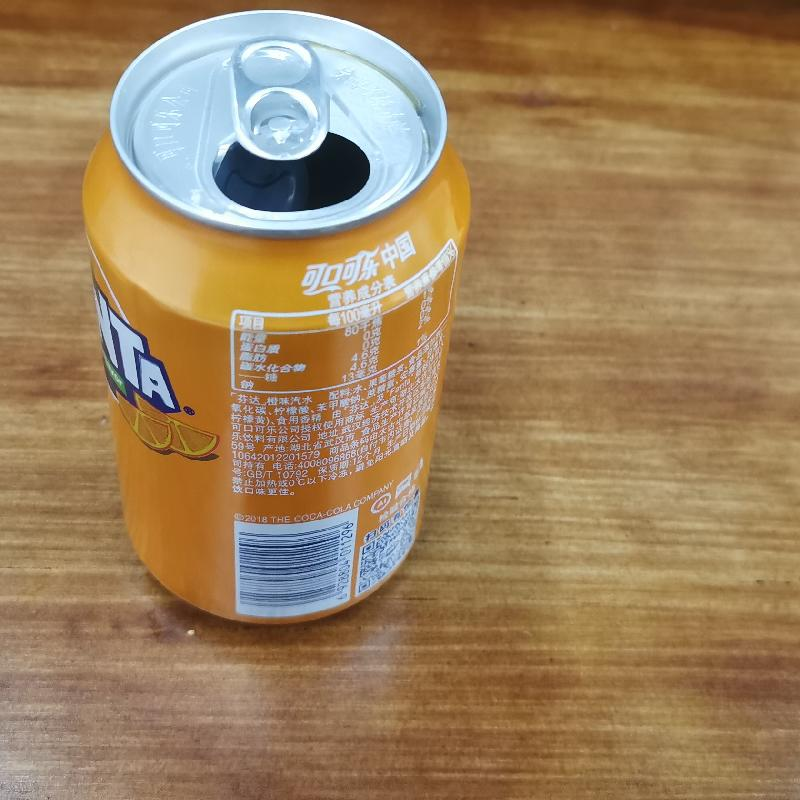cans: (72, 6, 474, 626)
